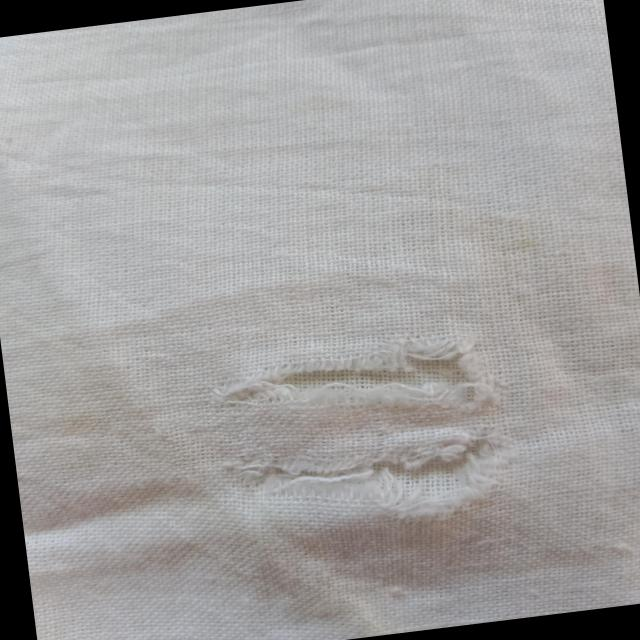cut: (197, 329, 499, 437), (208, 414, 512, 513)
